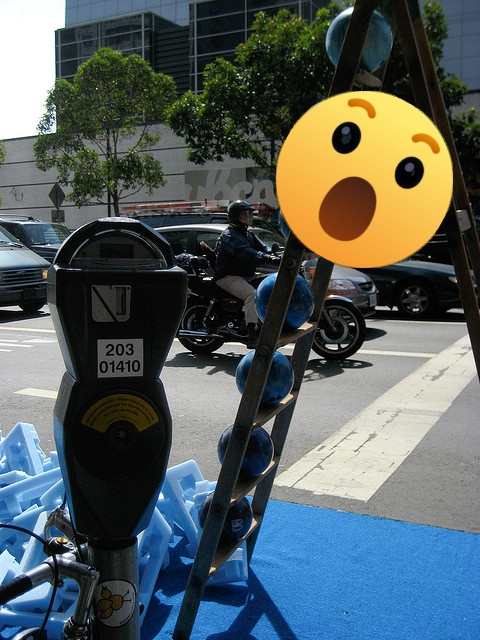wow: (276, 91, 453, 268)
